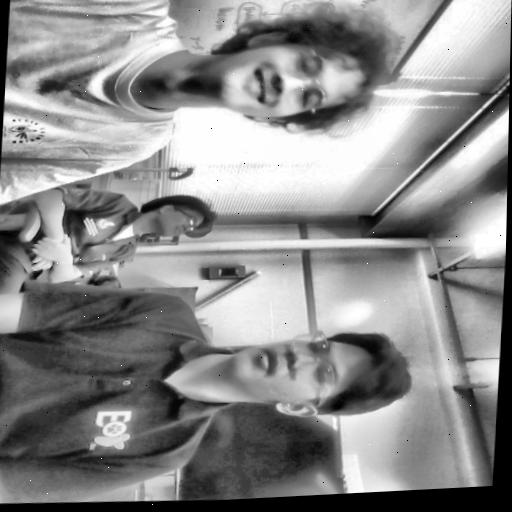Daifuku: (200, 0, 403, 143)
Not Daifuku: (211, 323, 426, 425), (135, 191, 216, 245)
